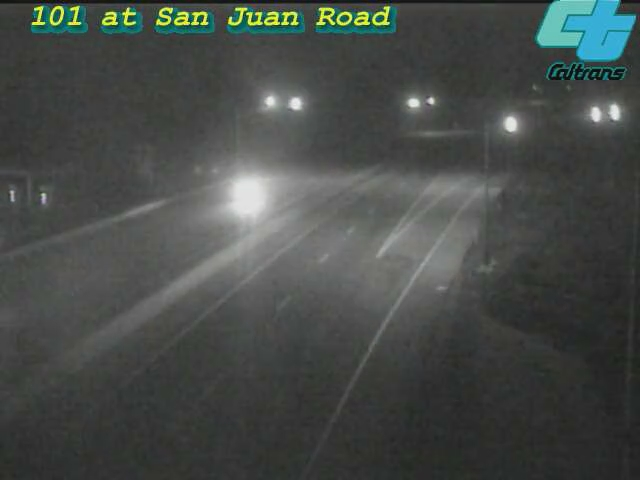vehicle: (210, 155, 290, 235), (484, 100, 534, 150), (573, 90, 623, 140), (591, 87, 640, 137)
